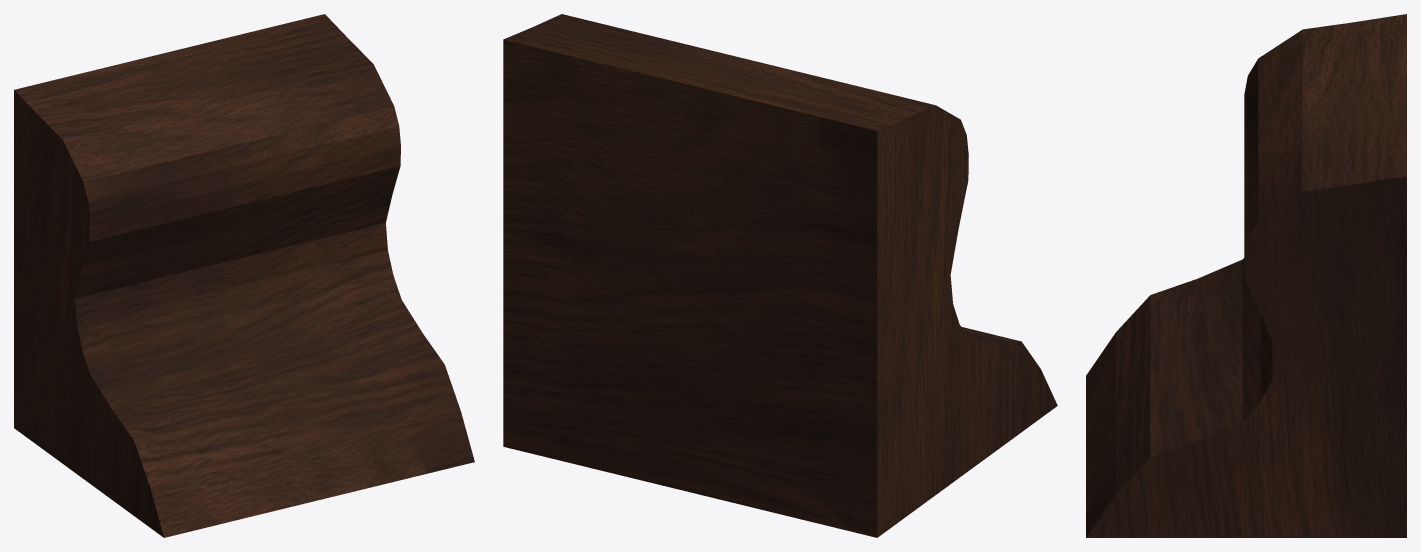
The model's file is plinthshort.fbx.
The picture shows the model from 3 angles, left to right: view 1: azimuth 30°, elevation 25°; view 2: azimuth 150°, elevation 25°; view 3: azimuth 270°, elevation 25°; orthographic projection. The views are drawn at different scales.
Parts seen in each view (by area): view 1: Cube; view 2: Cube; view 3: Cube.
Boxes of the visible parts, x1,y1,x2,y2 form: Cube: (14,14,474,537); Cube: (503,14,1057,537); Cube: (1086,14,1406,537).
Size of the model in its own units: 12.5 by 13 by 10.45.
